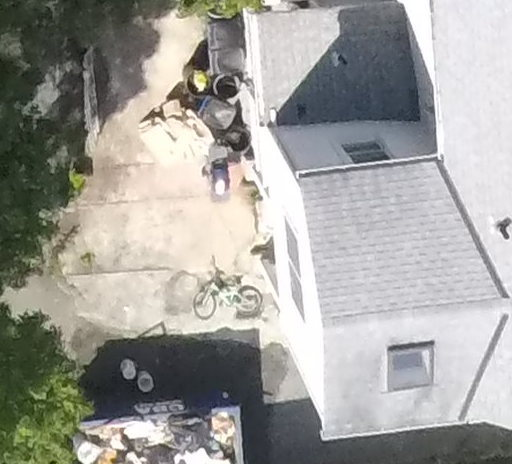clutter: (64, 402, 256, 464)
container: (221, 121, 256, 158), (211, 70, 245, 100), (180, 66, 214, 95), (117, 357, 143, 380), (133, 369, 157, 393)
garbage bin: (185, 91, 237, 127), (203, 41, 251, 77), (202, 14, 244, 47), (206, 68, 242, 102), (217, 122, 251, 156), (179, 63, 212, 97)
trash: (66, 398, 255, 464)
